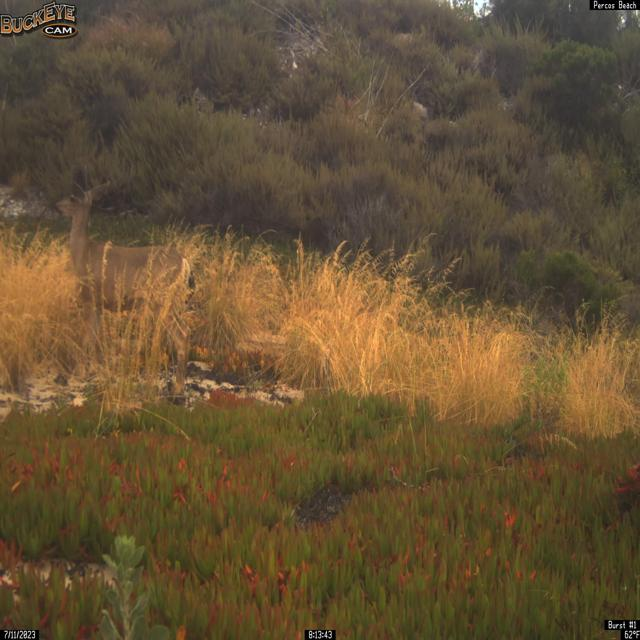deer: (55, 166, 196, 399)
